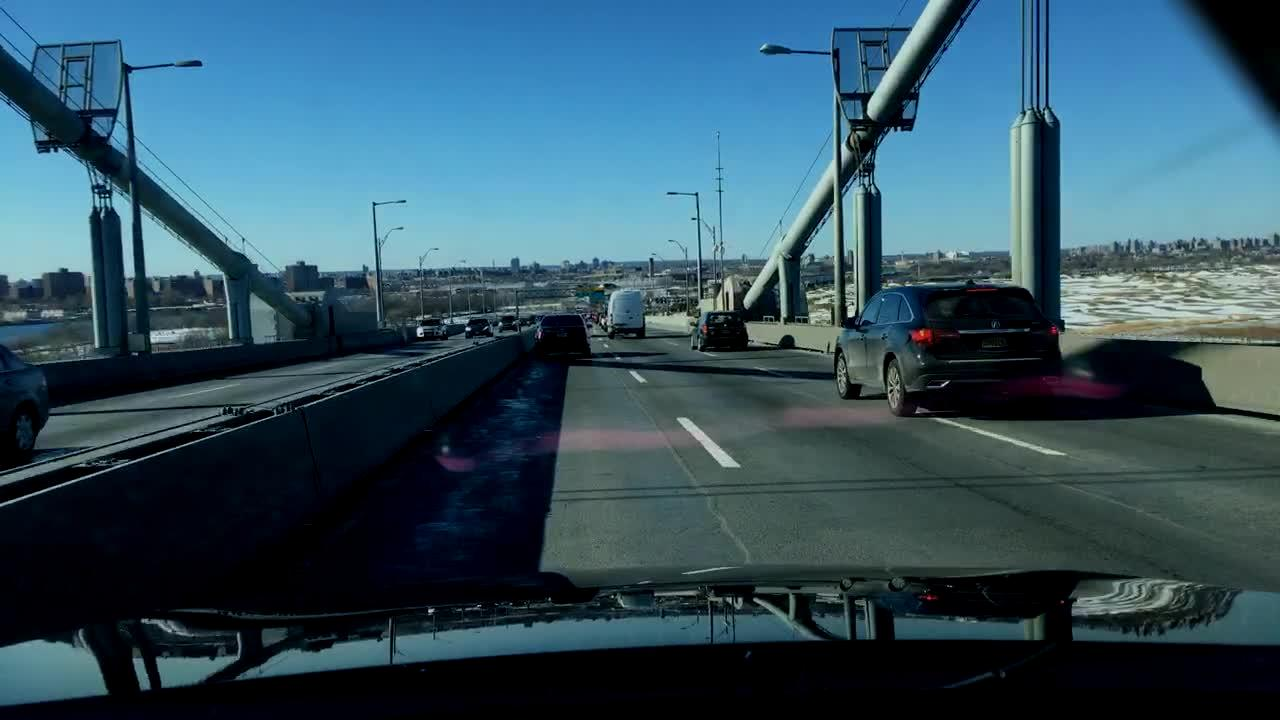acura: (984, 314, 1007, 334)
